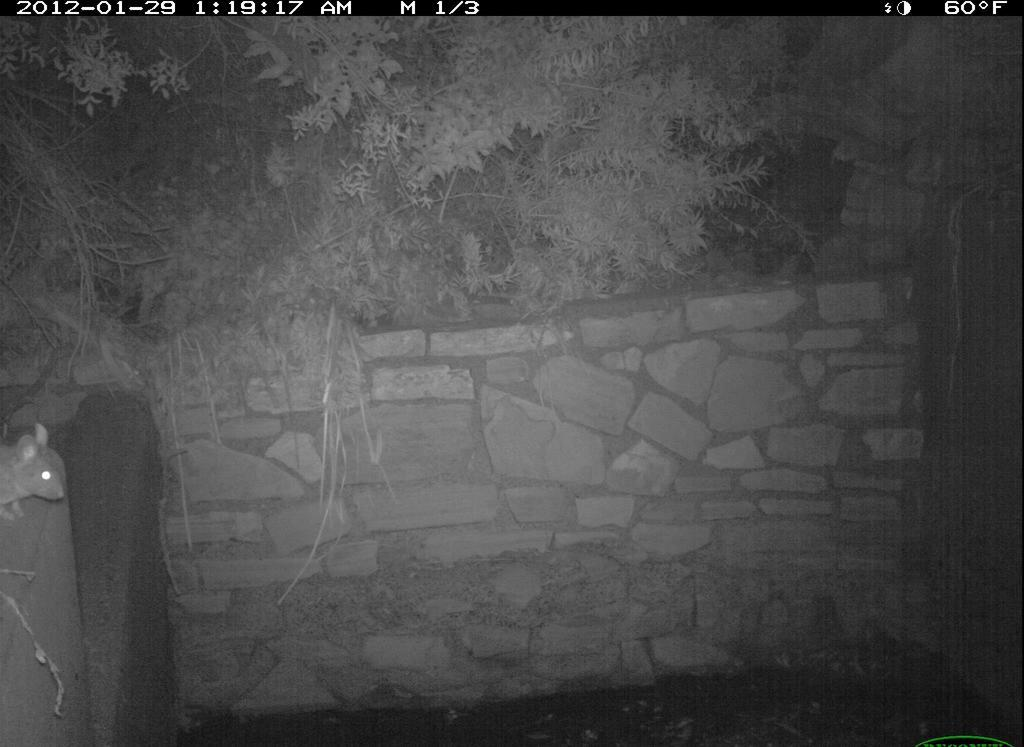rodent: (2, 425, 72, 510)
